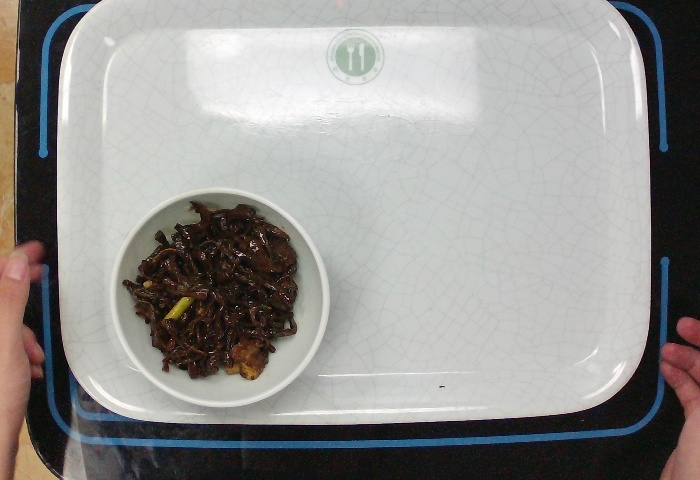JYsf-Fan_Wan: (107, 184, 332, 409)
